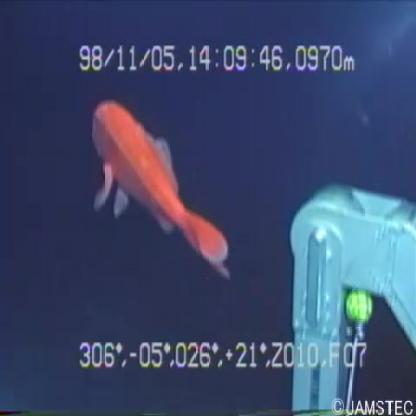Bio: (81, 92, 236, 288)
Rov: (282, 178, 416, 413)
